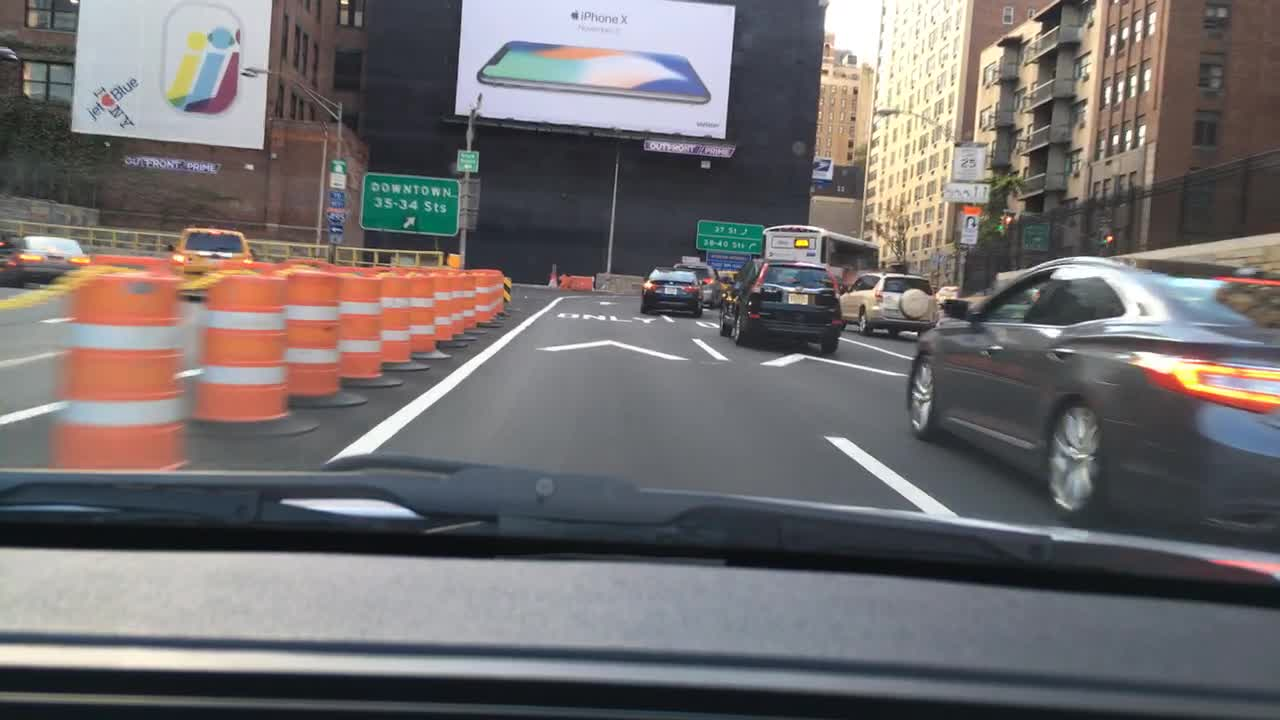bus: (762, 223, 879, 280)
car: (903, 253, 1279, 552), (714, 258, 840, 356), (837, 273, 936, 341), (165, 226, 253, 302), (0, 231, 91, 287), (636, 265, 703, 320), (671, 260, 719, 309), (938, 283, 960, 307)
traffic sign: (359, 172, 457, 234), (697, 218, 762, 253), (950, 142, 987, 179), (459, 177, 481, 231), (943, 180, 989, 204), (1021, 224, 1049, 248), (958, 206, 977, 239), (455, 147, 477, 170), (329, 157, 346, 185), (324, 209, 346, 226), (324, 191, 347, 207), (327, 224, 342, 241)
